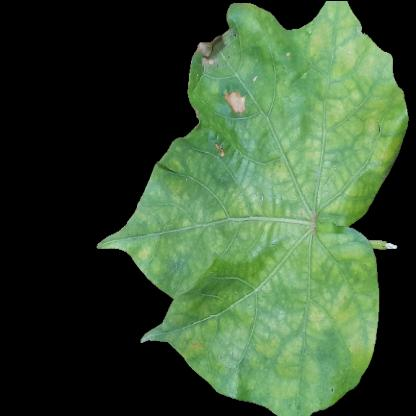curl_stage1: (263, 26, 382, 197), (241, 232, 369, 378), (144, 183, 230, 271), (185, 290, 239, 366), (271, 195, 359, 241), (226, 145, 263, 231)
